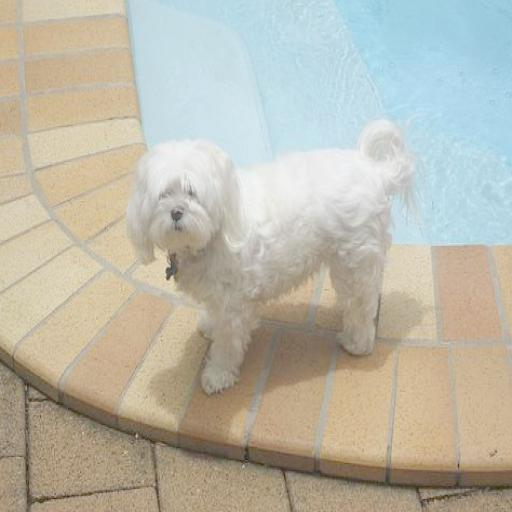dog_face: (124, 134, 237, 275)
